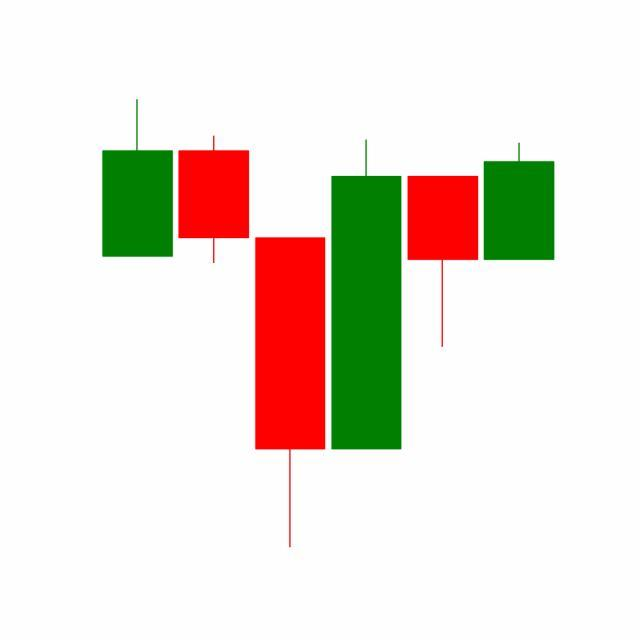Hammer: (404, 174, 482, 350)
